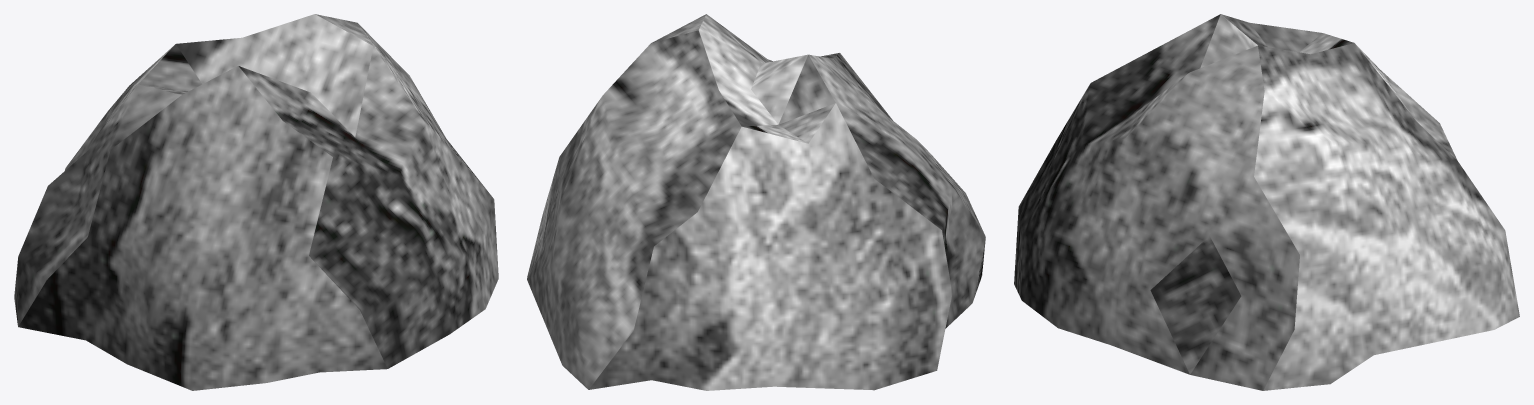
The model's file is rock.fbx.
3 renders of one model, left to right at view 1: azimuth 30°, elevation 25°; view 2: azimuth 150°, elevation 25°; view 3: azimuth 270°, elevation 25°, orthographic. The views are drawn at different scales.
Parts seen in each view (by area): view 1: Icosphere; view 2: Icosphere; view 3: Icosphere.
Boxes of the visible parts, box(x1,y1,x2,y2) form: Icosphere: box(14, 14, 498, 390); Icosphere: box(527, 14, 985, 390); Icosphere: box(1014, 14, 1519, 390).
Bounding box in the file's own units: 1.14 × 0.69 × 1.11.
Materials: 1 (1 with a texture image).
